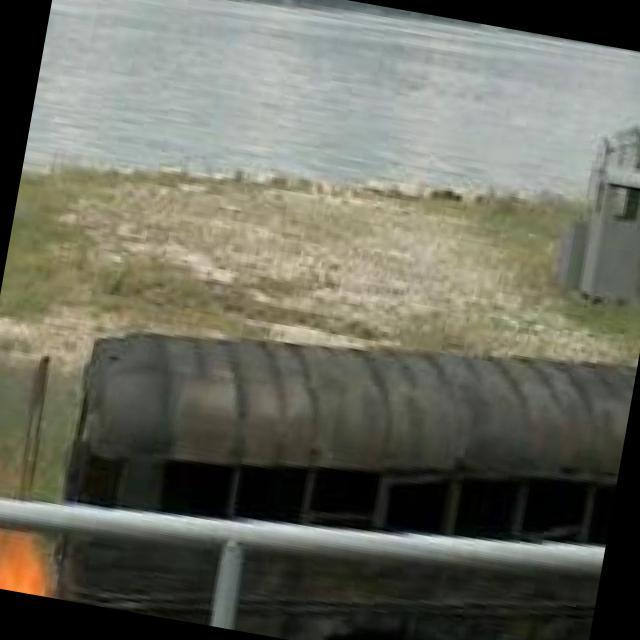Fire: (1, 531, 81, 601)
